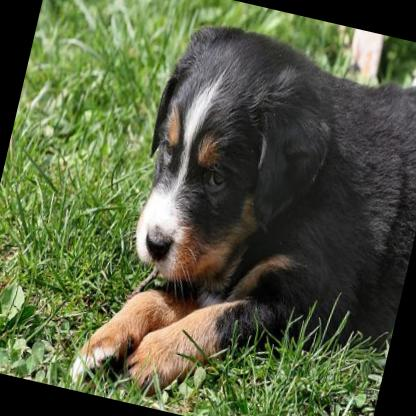Appenzeller: (68, 1, 416, 416)
